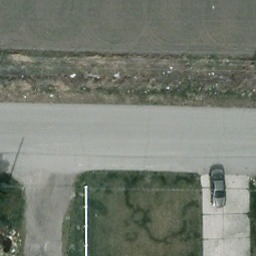car: (210, 167, 226, 209)
